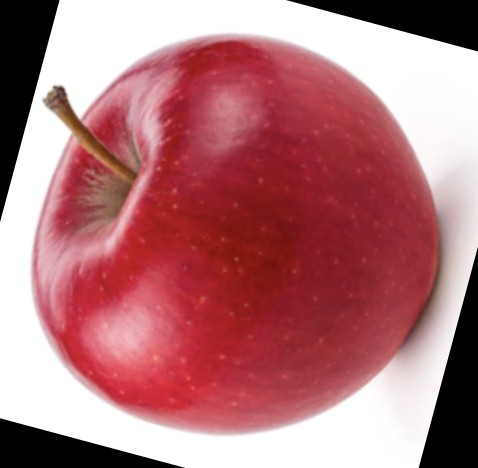fresh_apple: (27, 35, 443, 432)
